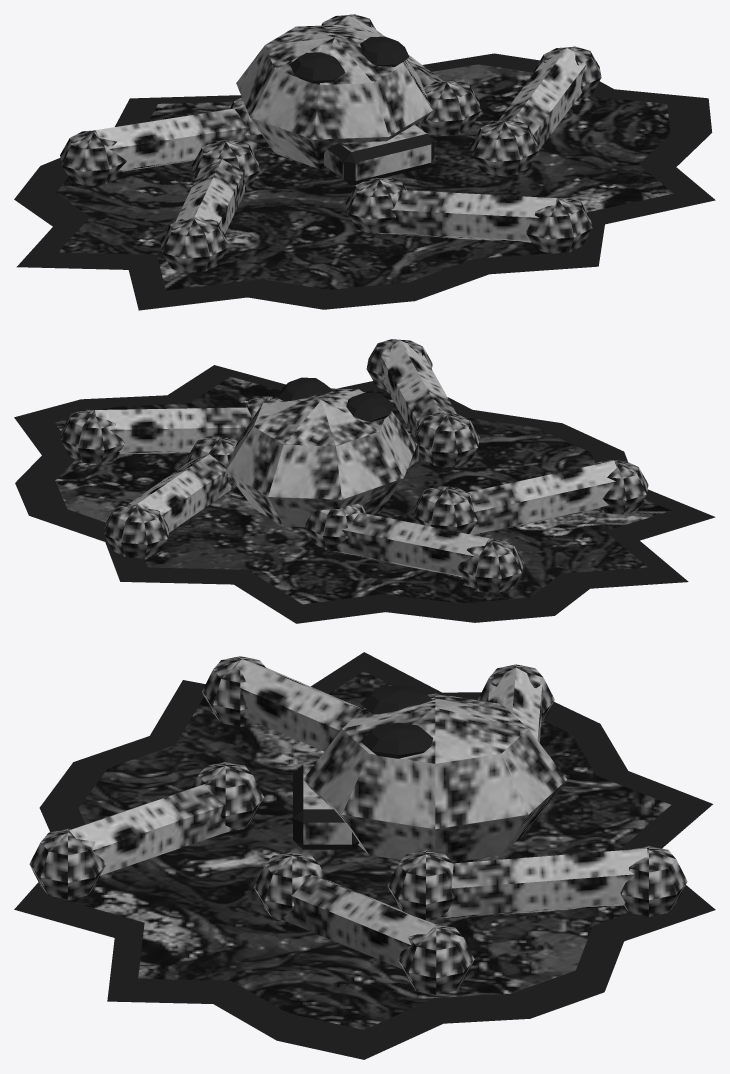
Rendered from corpse_1.glb.
3 renders of one model, top to bottom at view 1: azimuth 30°, elevation 25°; view 2: azimuth 150°, elevation 25°; view 3: azimuth 270°, elevation 25°, orthographic. The views are drawn at different scales.
Parts seen in each view (by area): view 1: Goo puddle.001, Goo puddle, Skull, Bone.002, Bone.001, Bone, Broken jaw, Bone.004, Knuckle, Knuckle.009, Knuckle.005, Knuckle.003 (+8 smaller); view 2: Goo puddle.001, Goo puddle, Skull, Bone.004, Bone.001, Bone, Bone.003, Bone.002, Knuckle.004, Knuckle.007, Knuckle.003, Knuckle.001 (+7 smaller); view 3: Goo puddle.001, Goo puddle, Skull, Bone.003, Bone.002, Bone, Bone.004, Knuckle.001, Knuckle.005, Knuckle.006, Knuckle.007, Broken jaw (+7 smaller).
Part boxes in pixels (box(x1,y1,x2,y2)): Goo puddle.001: box(56, 64, 673, 290); Goo puddle: box(14, 53, 715, 310); Skull: box(236, 24, 432, 169); Bone.002: box(378, 190, 558, 242); Bone.001: box(91, 108, 264, 171); Bone: box(498, 48, 585, 150); Broken jaw: box(324, 124, 434, 185); Bone.004: box(175, 159, 246, 233); Knuckle: box(470, 120, 538, 176); Knuckle.009: box(160, 219, 228, 272); Knuckle.005: box(526, 197, 592, 253); Knuckle.003: box(60, 130, 126, 185); Goo puddle.001: box(54, 376, 671, 604); Goo puddle: box(14, 365, 715, 623); Skull: box(225, 388, 417, 527); Bone.004: box(467, 460, 616, 535); Bone.001: box(330, 512, 492, 577); Bone: box(93, 407, 252, 454); Bone.003: box(129, 454, 233, 532); Bone.002: box(381, 340, 456, 436); Knuckle.004: box(414, 412, 479, 467); Knuckle.007: box(103, 504, 169, 558); Knuckle.003: box(457, 538, 523, 592); Knuckle.001: box(60, 409, 124, 464); Goo puddle.001: box(56, 671, 670, 1029); Goo puddle: box(14, 652, 715, 1059); Skull: box(303, 693, 566, 862); Bone.003: box(438, 848, 647, 918); Bone.002: box(63, 784, 233, 875); Bone: box(281, 875, 440, 969); Bone.004: box(236, 659, 362, 751); Knuckle.001: box(397, 924, 474, 994); Knuckle.005: box(29, 828, 106, 899); Knuckle.006: box(387, 850, 455, 920); Knuckle.007: box(620, 846, 687, 916); Broken jaw: box(293, 764, 358, 849).
Size of the model in its own units: 0.4753 by 0.081 by 0.3457.
2 materials, 1 textured.
